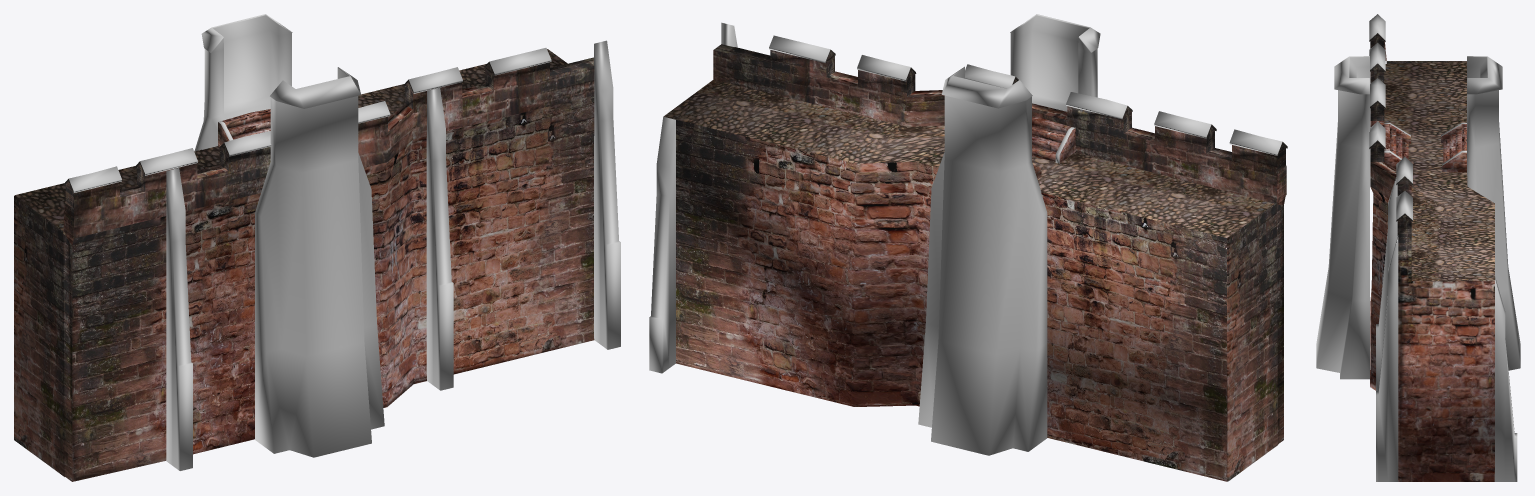
The model's file is WallBopposite.fbx.
The picture shows the model from 3 angles, left to right: view 1: azimuth 30°, elevation 25°; view 2: azimuth 150°, elevation 25°; view 3: azimuth 270°, elevation 25°; orthographic projection. The views are drawn at different scales.
Parts seen in each view (by area): view 1: wallA; view 2: wallA; view 3: wallA.
Boxes of the visible parts, bbox=[...] form: wallA: bbox=[14, 14, 620, 481]; wallA: bbox=[649, 14, 1287, 481]; wallA: bbox=[1316, 14, 1520, 481].
Bounding box in the file's own units: 605 × 371 × 237.
